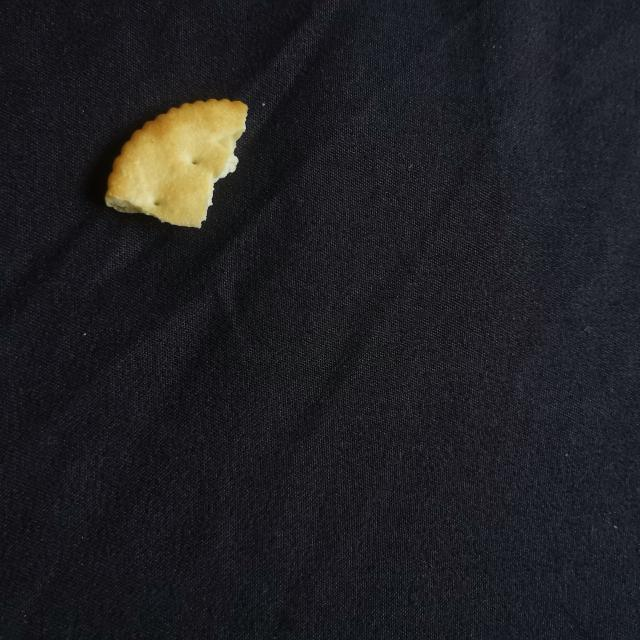Broken: (104, 96, 249, 229)
